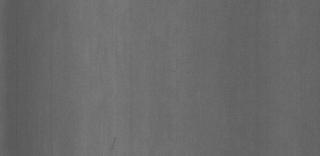water spot: (94, 129, 124, 155)
